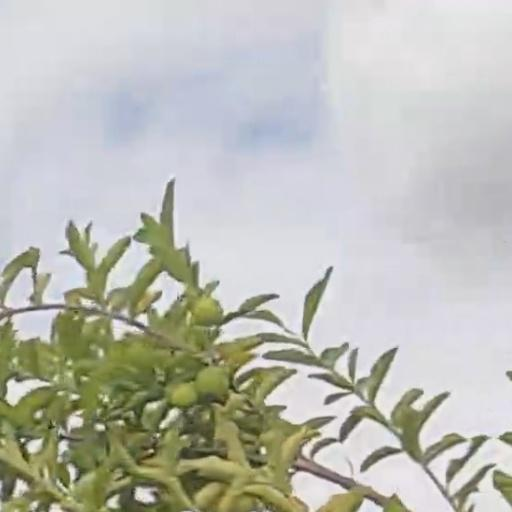acerola: (198, 368, 225, 400), (195, 301, 220, 323)
